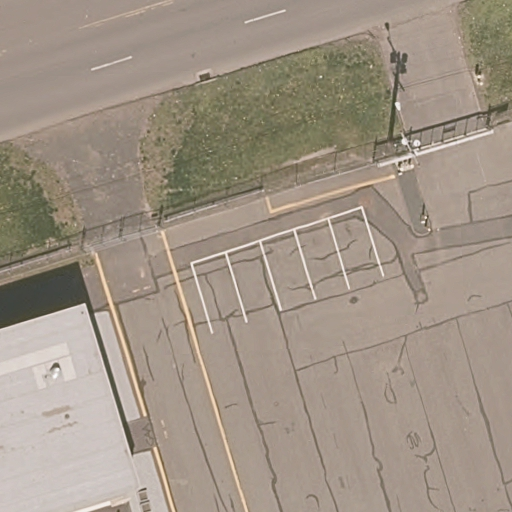DT: (399, 132, 421, 167)
